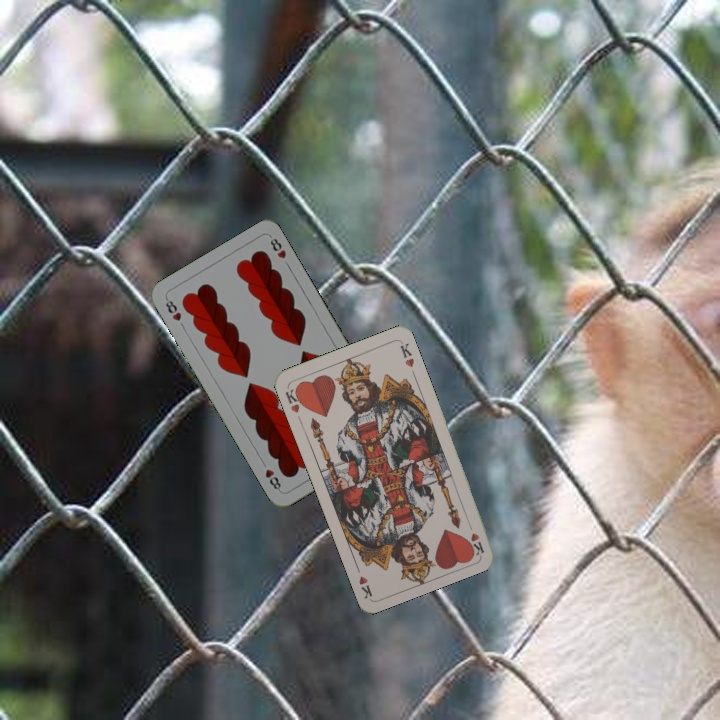H8: (161, 294, 184, 324)
HK: (463, 517, 487, 557), (281, 383, 306, 416)
